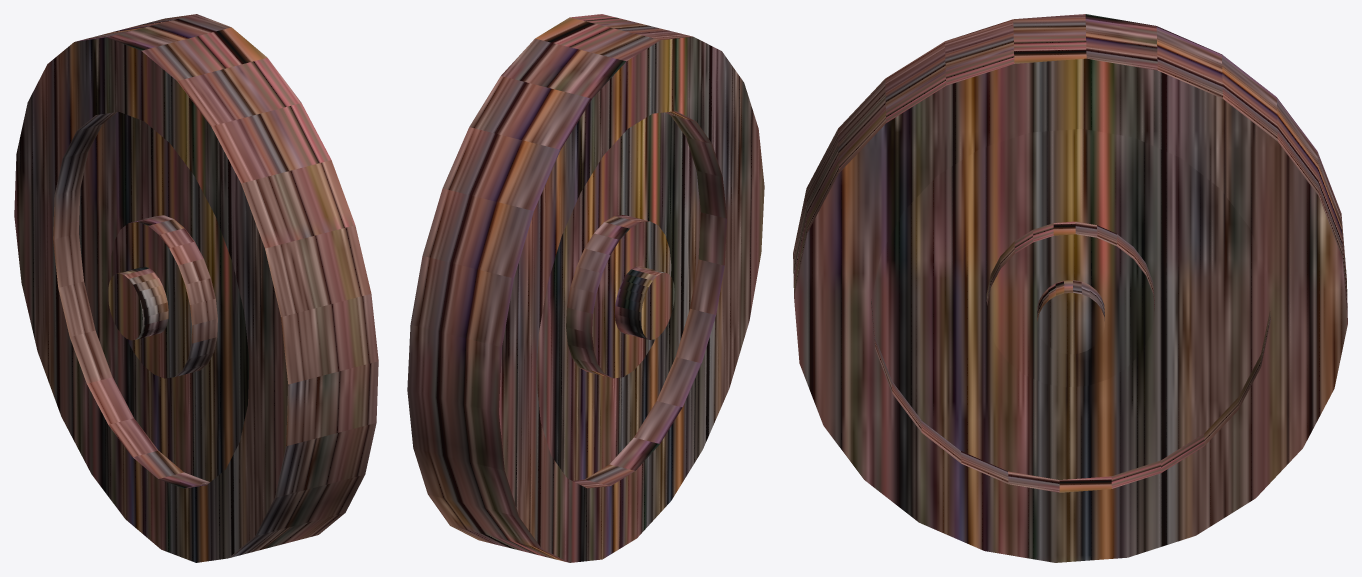
Rendered from original-2.obj.
3 views of the same model, side by side, from view 1: azimuth 30°, elevation 25°; view 2: azimuth 150°, elevation 25°; view 3: azimuth 270°, elevation 25° (orthographic). The views are drawn at different scales.
Parts seen in each view (by area): view 1: mesh1/mesh1-geometry#mesh1-geometry; view 2: mesh1/mesh1-geometry#mesh1-geometry; view 3: mesh1/mesh1-geometry#mesh1-geometry.
Boxes of the visible parts, x1,y1,x2,y2 form: mesh1/mesh1-geometry#mesh1-geometry: [14, 14, 378, 562]; mesh1/mesh1-geometry#mesh1-geometry: [407, 14, 764, 562]; mesh1/mesh1-geometry#mesh1-geometry: [793, 14, 1347, 562].
Size of the model in its own units: 0.0779 by 0.2537 by 0.2537.
